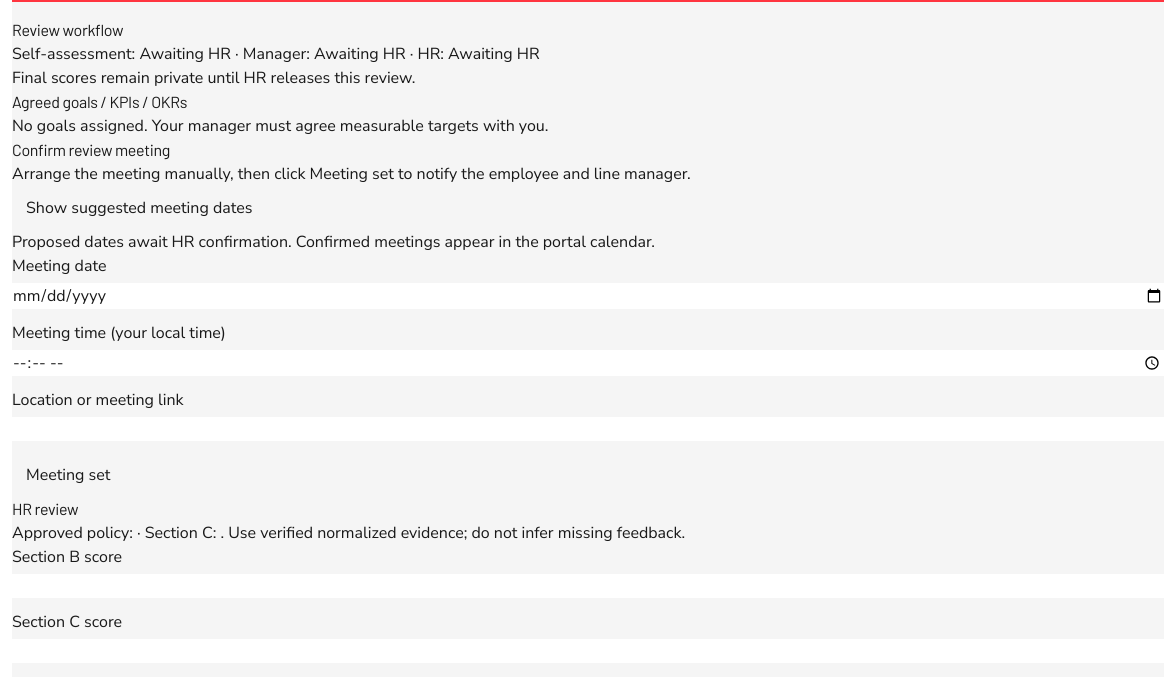
Test: suggested calendar dates never book a meeting without HR choosing a time and saving
The width and height of the screenshot is (1176, 677).
Click the button "Show suggested meeting dates": click(139, 208) left=12, top=186, right=266, bottom=230
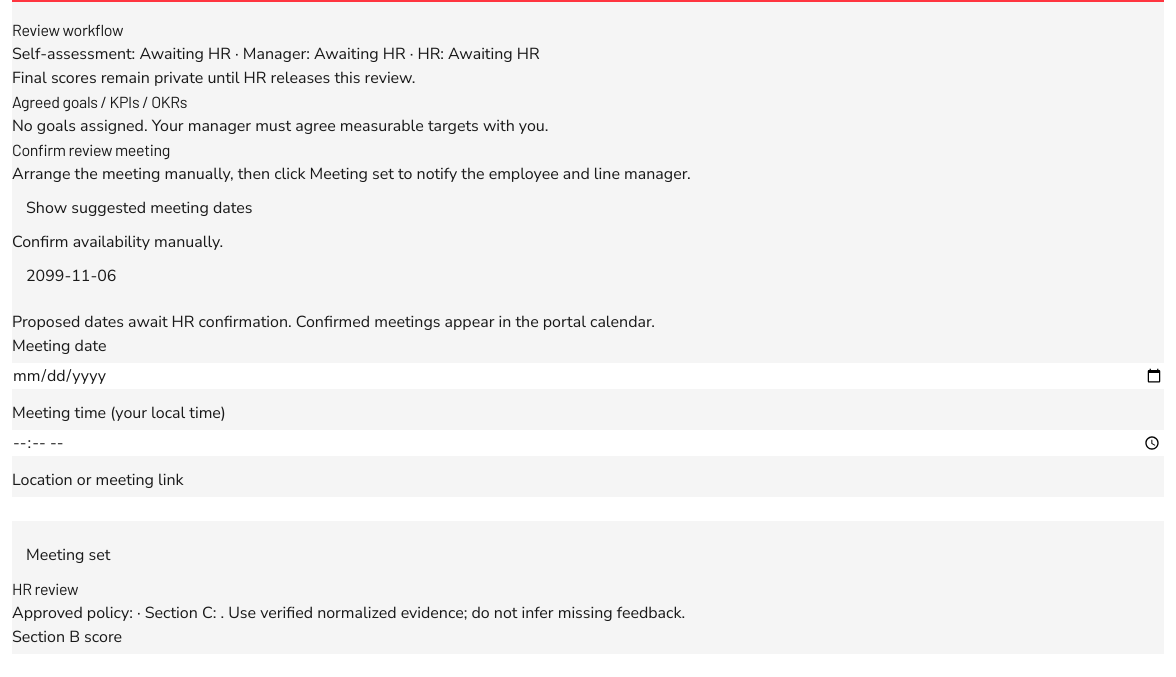
expect the button "2099-11-06" is shown: met
Click the button "2099-11-06": click(71, 276) left=12, top=254, right=130, bottom=298
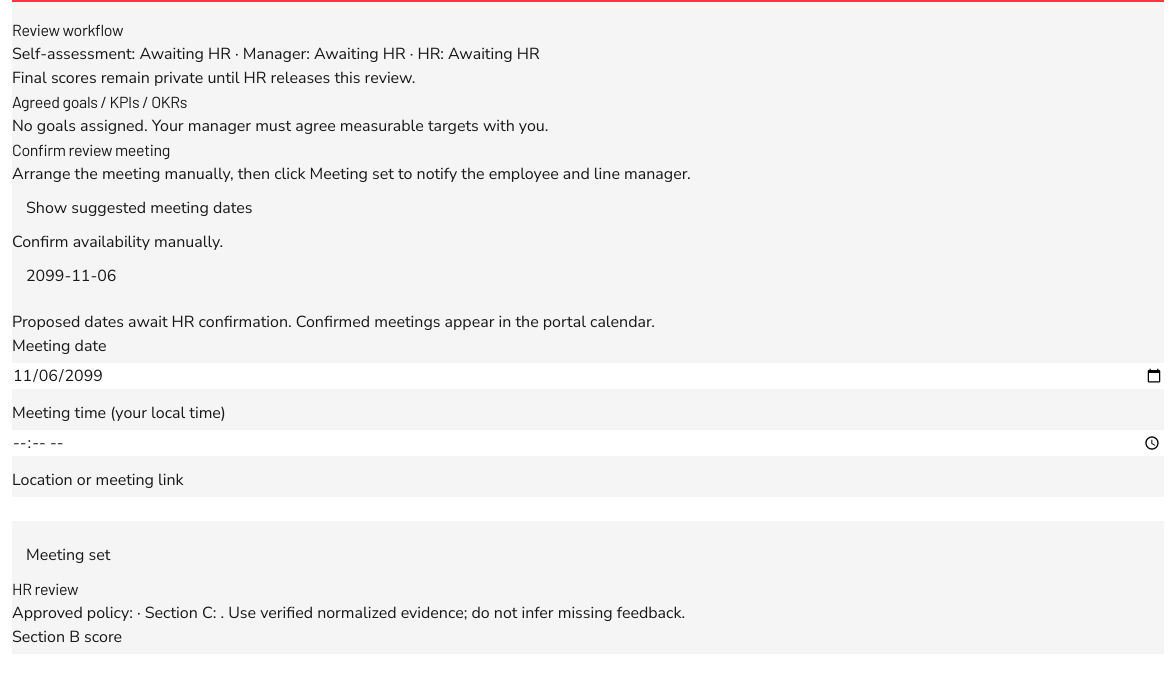
expect the time field named "Review meeting time" is empty: met, box left=12, top=430, right=1164, bottom=456
expect the date field named "Review meeting date" holds "2099-11-06": met, box left=12, top=363, right=1164, bottom=389
